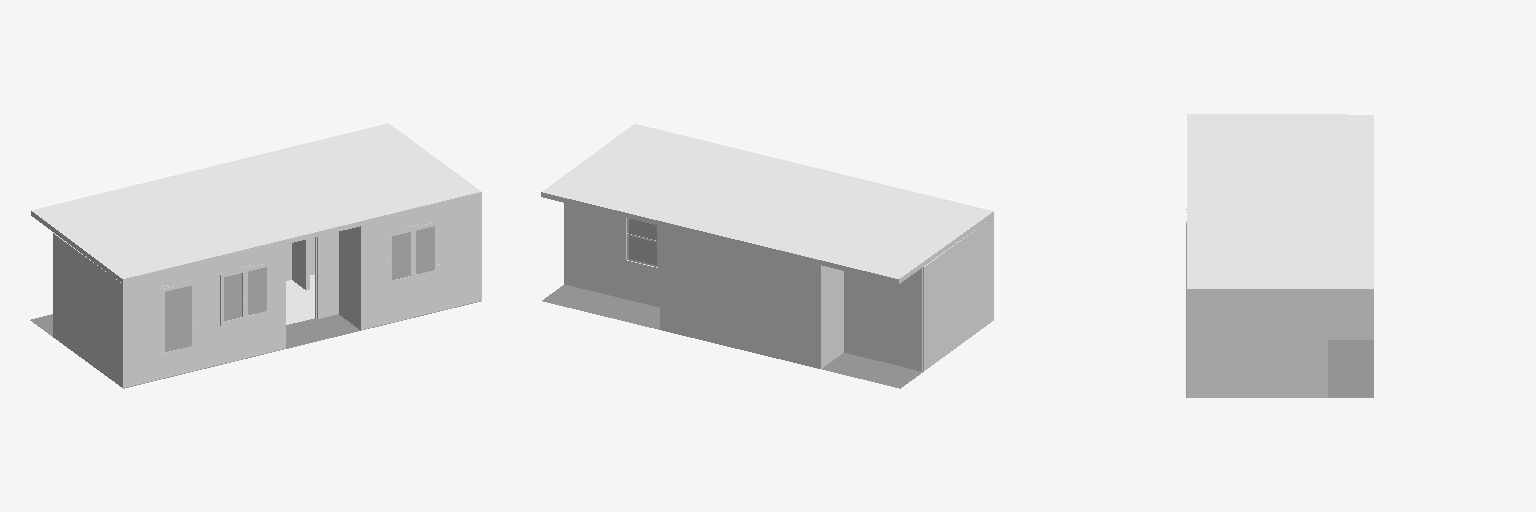
Rendered from Casa.obj.
3 renders of one model, left to right at view 1: azimuth 30°, elevation 25°; view 2: azimuth 150°, elevation 25°; view 3: azimuth 270°, elevation 25°, orthographic.
Visible parts, largest first — view 1: room_22_112, wall_5_29, wall_1_5, wall_16_95, wall_17_101, wall_4_23, ground_1, wall_3_17, sweethome3d_window_pane_on_hinge_1_312, room_21_110, sweethome3d_window_pane_on_hinge_1_333, sweethome3d_window_pane_on_hinge_2_338 (+5 smaller); view 2: room_22_112, wall_9_53, wall_1_5, wall_11_65, wall_7_41, ground_1, wall_10_59, sweethome3d_window_pane_on_rail_1_344; view 3: room_22_112, wall_6_35, ground_1, wall_8_47.
Part boxes in pixels (x1,y1,x2,y2): room_22_112: (31, 123, 481, 283); wall_5_29: (361, 197, 481, 329); wall_1_5: (53, 233, 122, 387); wall_16_95: (123, 265, 203, 387); wall_17_101: (204, 245, 285, 367); wall_4_23: (339, 226, 360, 329); ground_1: (30, 301, 480, 388); wall_3_17: (319, 232, 338, 318); sweethome3d_window_pane_on_hinge_1_312: (165, 286, 191, 351); room_21_110: (286, 280, 314, 324); sweethome3d_window_pane_on_hinge_1_333: (392, 232, 410, 279); sweethome3d_window_pane_on_hinge_2_338: (416, 226, 434, 273); room_22_112: (541, 124, 993, 283); wall_9_53: (660, 226, 820, 368); wall_1_5: (923, 217, 993, 370); wall_11_65: (844, 268, 922, 370); wall_7_41: (564, 203, 659, 307); ground_1: (542, 284, 923, 388); wall_10_59: (821, 265, 843, 368); sweethome3d_window_pane_on_rail_1_344: (629, 236, 656, 264); room_22_112: (1187, 114, 1373, 293); wall_6_35: (1187, 294, 1327, 397); ground_1: (1186, 223, 1373, 397); wall_8_47: (1328, 294, 1373, 339).
Size of the model in its own units: 904 by 262 by 410.